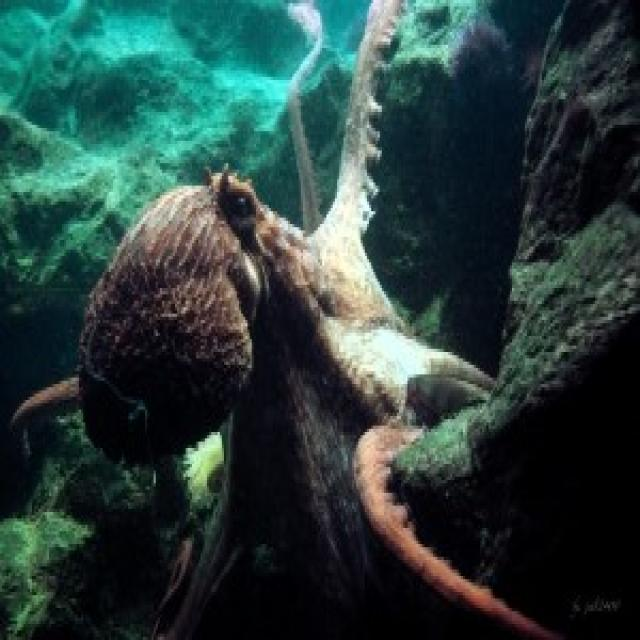Octo: (80, 18, 516, 630)
